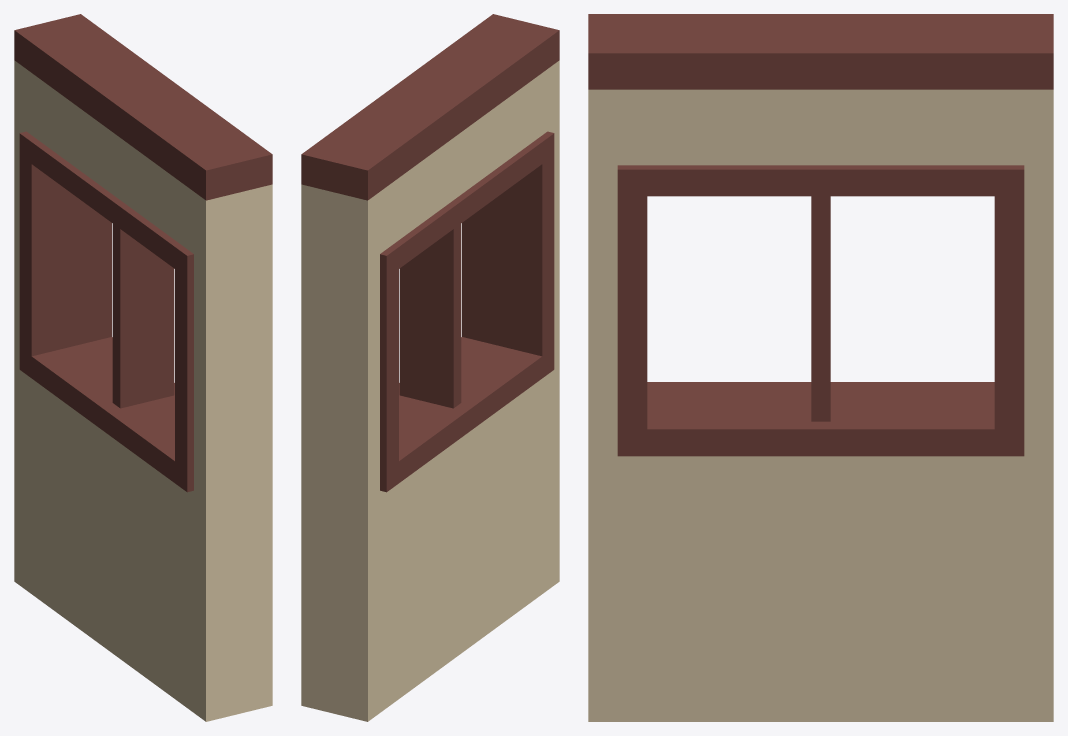
Rendered from WallWindow.fbx.
3 views of the same model, side by side, from view 1: azimuth 30°, elevation 25°; view 2: azimuth 150°, elevation 25°; view 3: azimuth 270°, elevation 25° (orthographic). The views are drawn at different scales.
Parts seen in each view (by area): view 1: WallWindow; view 2: WallWindow; view 3: WallWindow.
Part boxes in pixels (x1,y1,x2,y2): WallWindow: (14,14,272,721); WallWindow: (301,14,559,721); WallWindow: (588,14,1053,721).
Bounding box in the file's own units: 0.4834 × 2 × 3.17.
